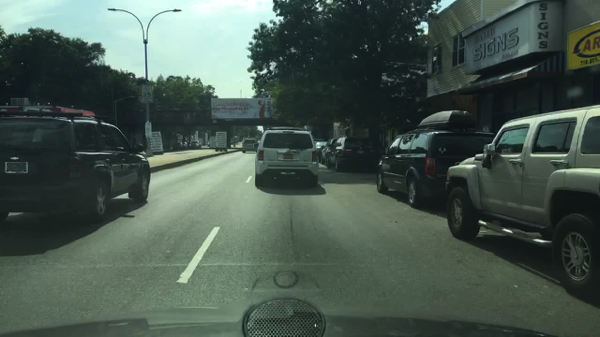car: (444, 103, 599, 286), (0, 99, 151, 228), (375, 110, 502, 206), (254, 126, 320, 187), (332, 136, 377, 176), (319, 138, 344, 165), (314, 140, 328, 162), (242, 139, 258, 154), (192, 141, 203, 148), (173, 141, 183, 148), (187, 143, 192, 147), (183, 143, 187, 148), (207, 142, 211, 147), (230, 140, 233, 144), (251, 138, 256, 140), (243, 138, 247, 140)
traffic sign: (151, 131, 164, 152), (142, 84, 154, 103), (214, 132, 227, 149)
